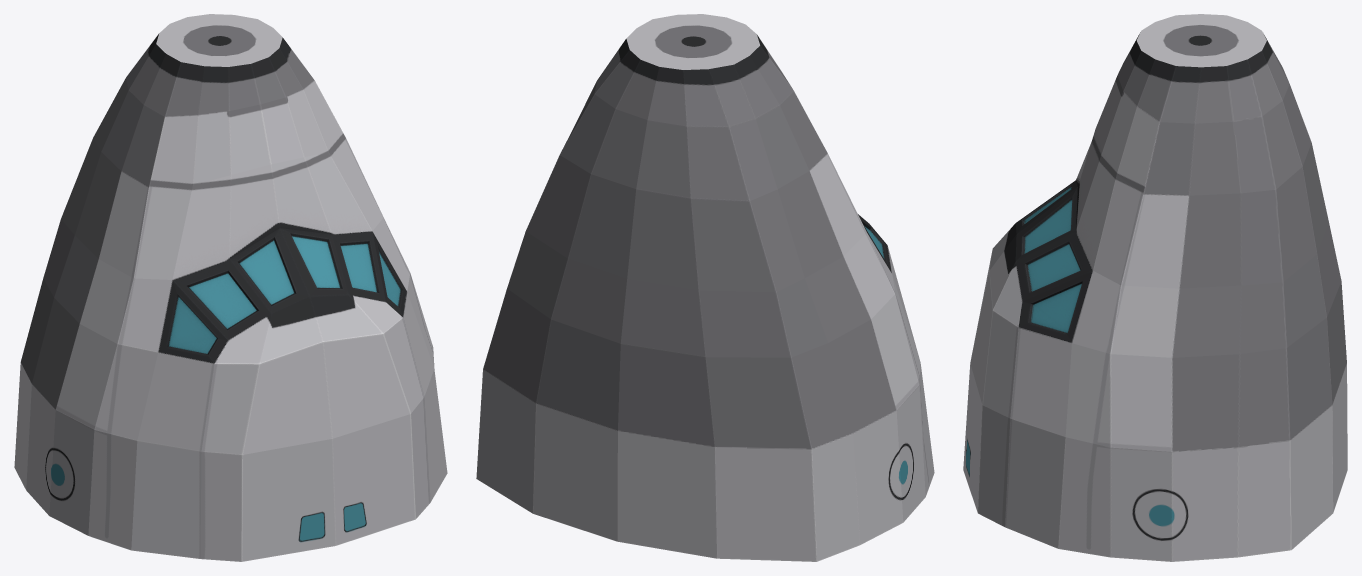
3 views of the same model, side by side, from view 1: azimuth 30°, elevation 25°; view 2: azimuth 150°, elevation 25°; view 3: azimuth 270°, elevation 25° (orthographic). The views are drawn at different scales.
Parts seen in each view (by area): view 1: Mk3Cockpit_mesh; view 2: Mk3Cockpit_mesh; view 3: Mk3Cockpit_mesh.
Boxes of the visible parts, x1,y1,x2,y2 form: Mk3Cockpit_mesh: [14, 14, 447, 561]; Mk3Cockpit_mesh: [476, 14, 934, 561]; Mk3Cockpit_mesh: [963, 14, 1347, 561].
Size of the model in its own units: 6.55 by 7.13 by 5.79.
1 material, 1 textured.
